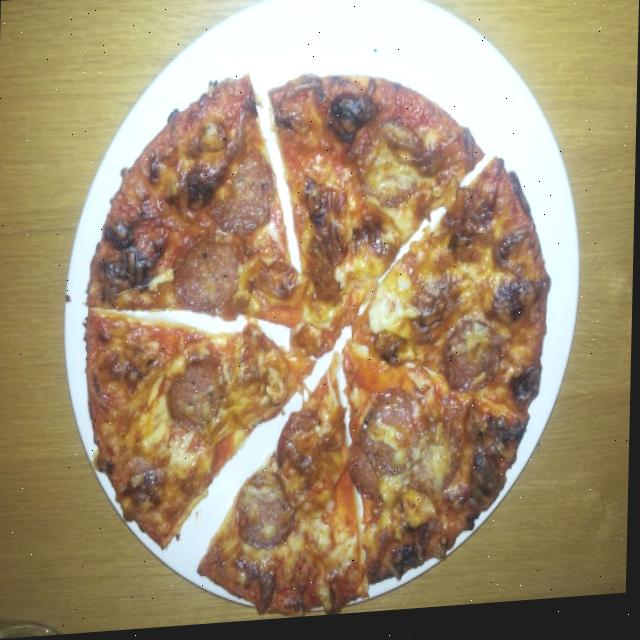汉堡快餐: (39, 0, 565, 622)
